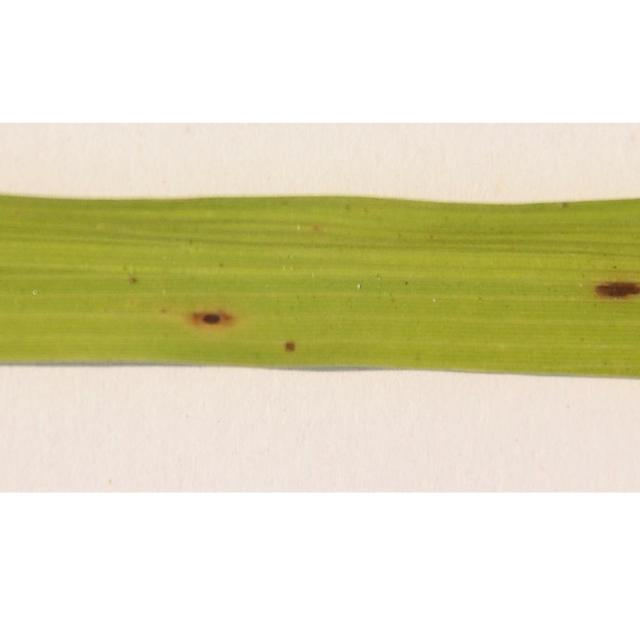Brown spot: (152, 296, 250, 338), (583, 262, 640, 310), (118, 268, 148, 294), (275, 334, 304, 358)
